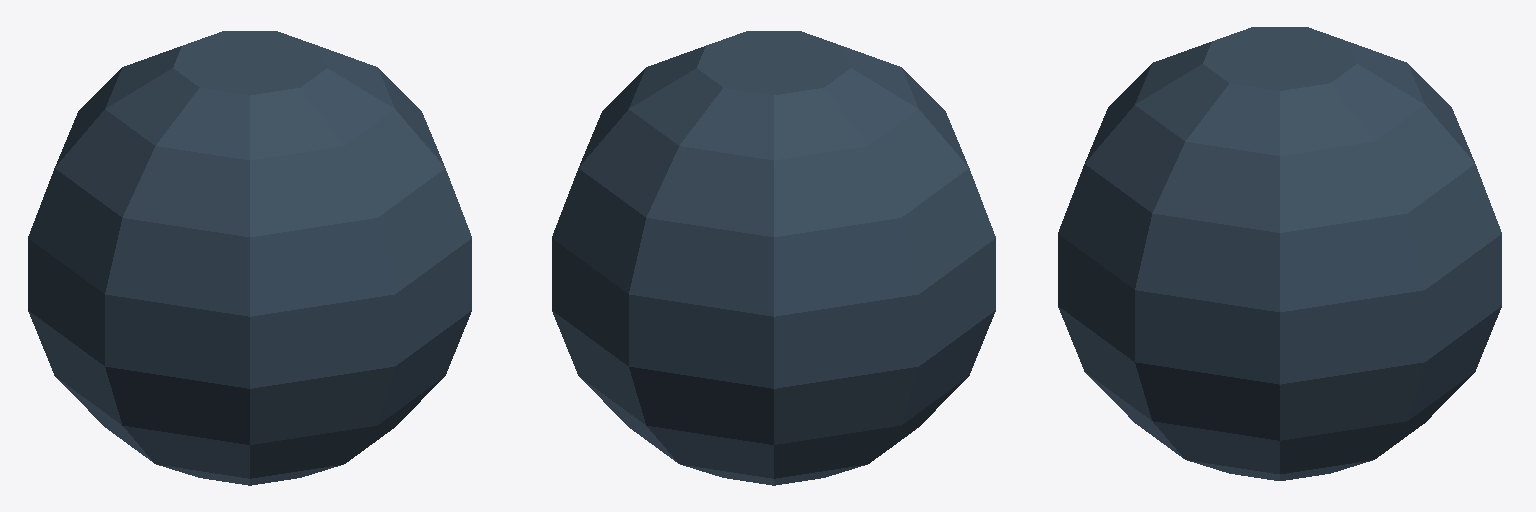
Rendered from spaceball.obj.
3 views of the same model, side by side, from view 1: azimuth 30°, elevation 25°; view 2: azimuth 150°, elevation 25°; view 3: azimuth 270°, elevation 25° (orthographic).
Visible parts, largest first — view 1: pSphere1; view 2: pSphere1; view 3: pSphere1.
Boxes of the visible parts, box(x1,y1,x2,y2) form: pSphere1: box(28, 31, 471, 485); pSphere1: box(552, 31, 995, 485); pSphere1: box(1058, 27, 1501, 480).
Bounding box in the file's own units: 1.91 × 1.88 × 1.94.